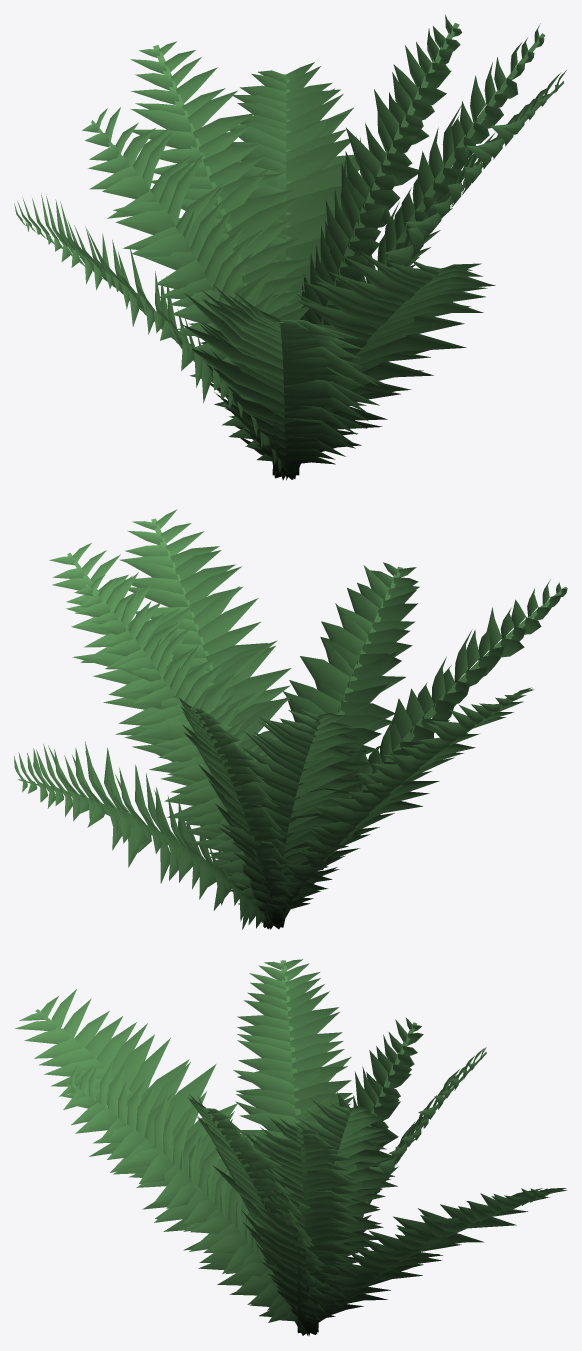
The model's file is SM_Veg_04_FernSmall.fbx.
3 views of the same model, one above another, from view 1: azimuth 30°, elevation 25°; view 2: azimuth 150°, elevation 25°; view 3: azimuth 270°, elevation 25° (orthographic). The views are drawn at different scales.
Visible parts, largest first — view 1: SM_Veg_04_FernSmall; view 2: SM_Veg_04_FernSmall; view 3: SM_Veg_04_FernSmall.
Boxes of the visible parts, <box> form: SM_Veg_04_FernSmall: <box>14,14,567,480</box>; SM_Veg_04_FernSmall: <box>14,509,567,929</box>; SM_Veg_04_FernSmall: <box>14,959,567,1335</box>.
Size of the model in its own units: 64.81 by 45 by 72.39.
